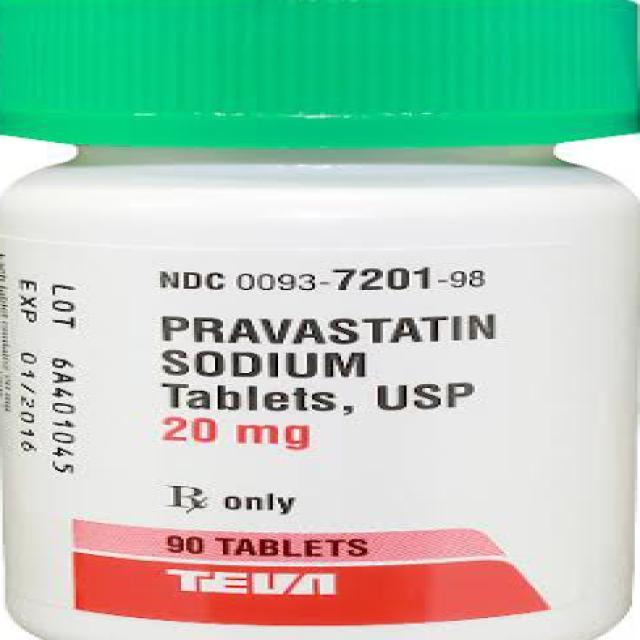drug-name: (144, 310, 508, 350)
